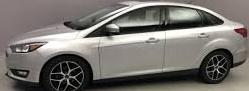Cars: (7, 3, 248, 91)
